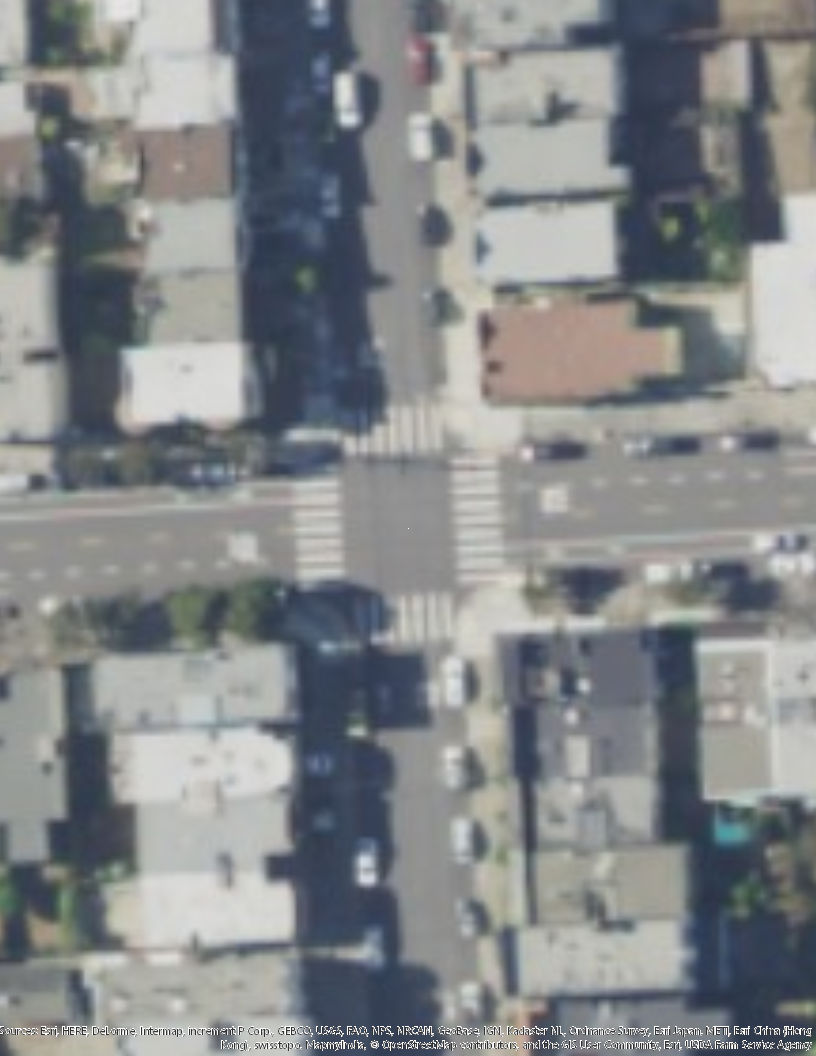zebracross: (290, 465, 347, 588), (447, 463, 506, 577), (338, 405, 449, 460), (359, 591, 457, 650)
